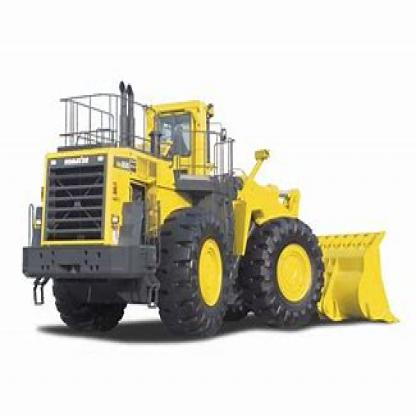bull_dozer/loader/grader: (15, 75, 415, 336)
